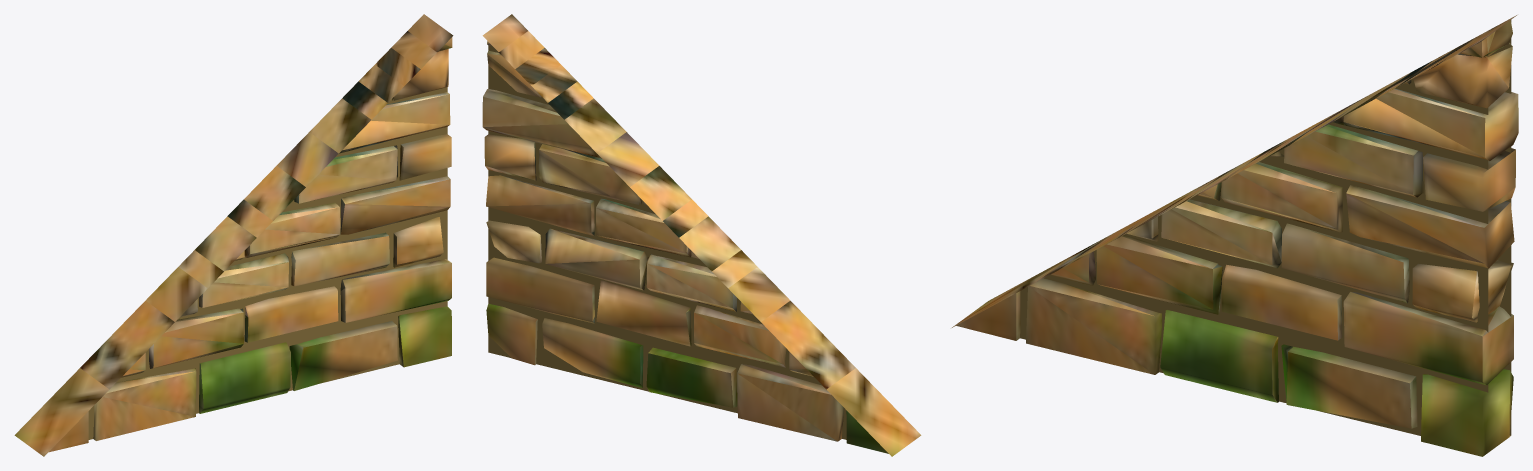
File: wall-stone-gable.lod1.glb
3 renders of one model, left to right at view 1: azimuth 30°, elevation 25°; view 2: azimuth 150°, elevation 25°; view 3: azimuth 330°, elevation 25°, orthographic. The views are drawn at different scales.
Size of the model in its own units: 2 by 1.5 by 0.25.
Materials: 1 (1 with a texture image).
